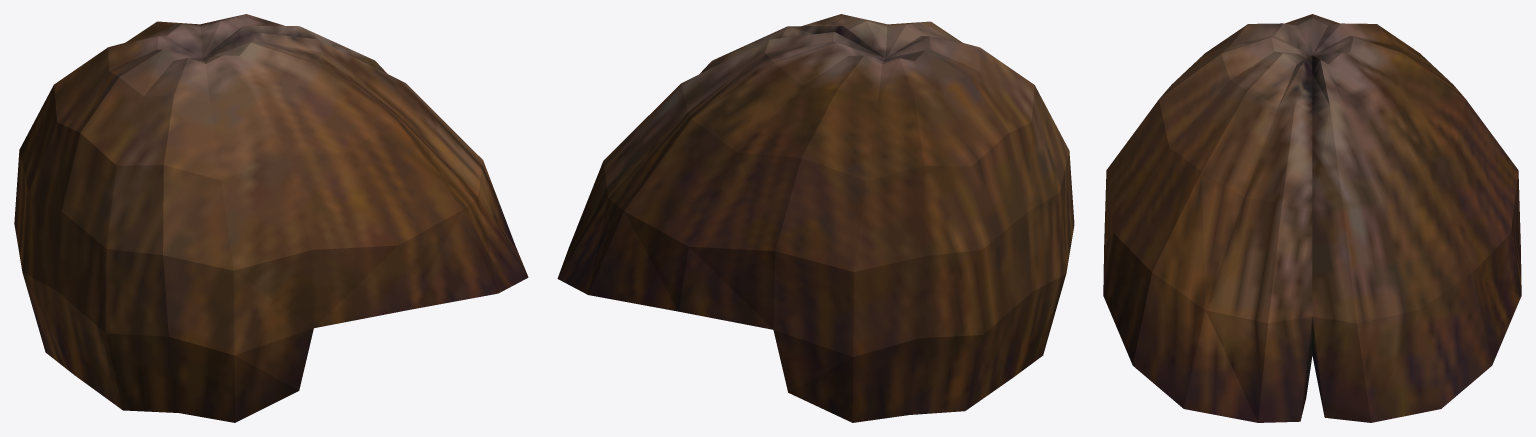
File: PEASANT HAIRCUT.fbx
3 views of the same model, side by side, from view 1: azimuth 30°, elevation 25°; view 2: azimuth 150°, elevation 25°; view 3: azimuth 270°, elevation 25° (orthographic). The views are drawn at different scales.
Visible parts, largest first — view 1: PEASANT_HAIRCUT; view 2: PEASANT_HAIRCUT; view 3: PEASANT_HAIRCUT.
Part boxes in pixels (box(x1,y1,x2,y2)): PEASANT_HAIRCUT: box(14, 14, 528, 422); PEASANT_HAIRCUT: box(557, 14, 1074, 422); PEASANT_HAIRCUT: box(1103, 14, 1521, 422).
Bounding box in the file's own units: 30.75 × 21.35 × 26.4.
